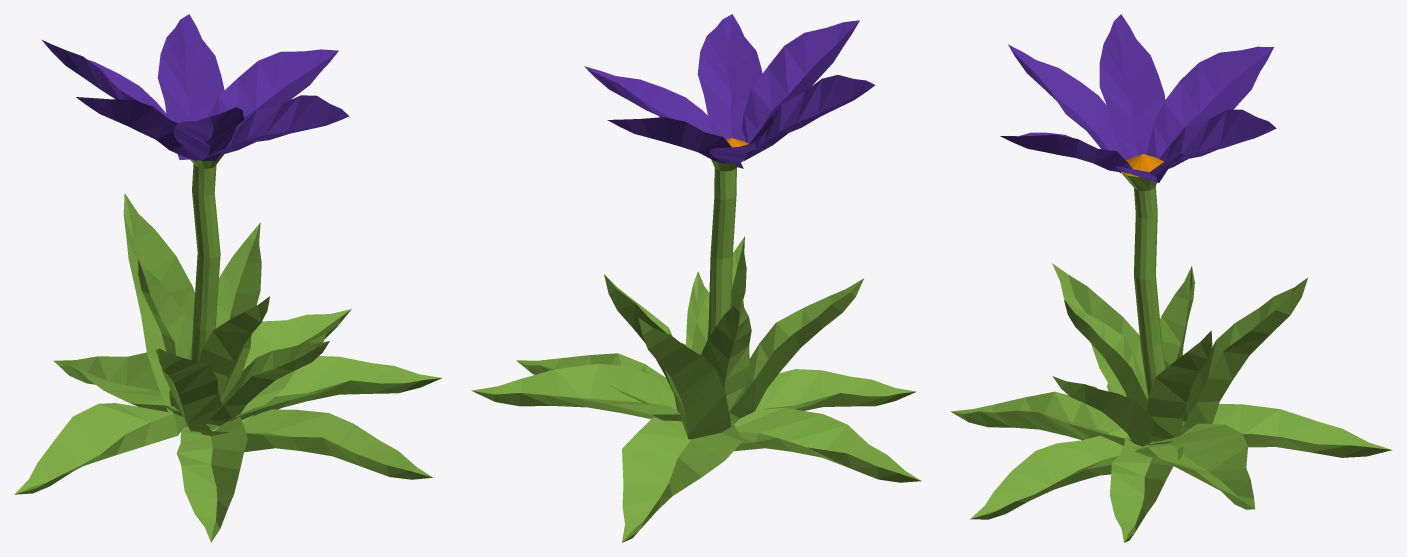
3 views of the same model, side by side, from view 1: azimuth 30°, elevation 25°; view 2: azimuth 150°, elevation 25°; view 3: azimuth 270°, elevation 25° (orthographic). The views are drawn at different scales.
Visible parts, largest first — view 1: node_MeshObject111864576-PolyPaper9; view 2: node_MeshObject111864576-PolyPaper9; view 3: node_MeshObject111864576-PolyPaper9.
Part boxes in pixels (x1=…): node_MeshObject111864576-PolyPaper9: x1=14, y1=14, x2=441, y2=542; node_MeshObject111864576-PolyPaper9: x1=471, y1=14, x2=921, y2=542; node_MeshObject111864576-PolyPaper9: x1=950, y1=14, x2=1391, y2=542.
Bounding box in the file's own units: 1.7 × 1.56 × 1.6.
